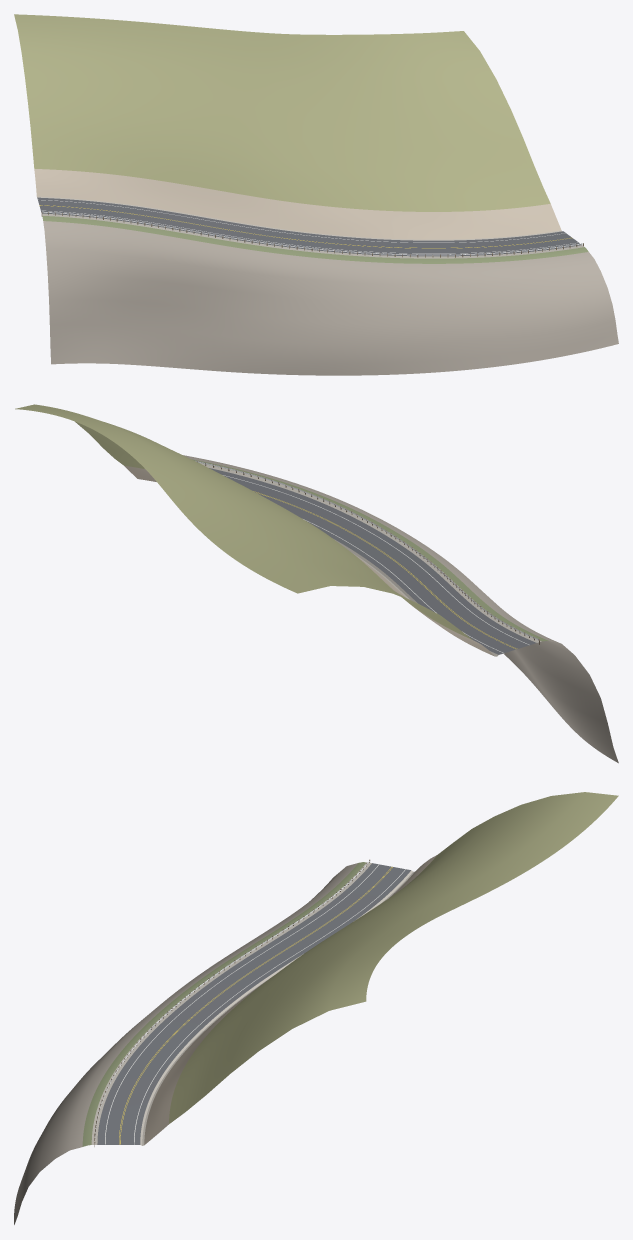
3 views of the same model, one above another, from view 1: azimuth 30°, elevation 25°; view 2: azimuth 150°, elevation 25°; view 3: azimuth 270°, elevation 25° (orthographic). The views are drawn at different scales.
Parts seen in each view (by area): view 1: Hillside, Cliff, RoadCut, Asphalt, Verge, Gravel, Guardrail, EdgeLines; view 2: Hillside, Asphalt, Cliff, Gravel, Verge, RoadCut, Guardrail, EdgeLines, CenterLine; view 3: Hillside, Asphalt, Cliff, Gravel, Verge, RoadCut, EdgeLines, CenterLine.
Boxes of the visible parts, x1=… form: Hillside: x1=14, y1=14, x2=550, y2=211; Cliff: x1=43, y1=221, x2=618, y2=375; RoadCut: x1=34, y1=169, x2=561, y2=239; Asphalt: x1=37, y1=197, x2=581, y2=256; Verge: x1=42, y1=215, x2=588, y2=263; Gravel: x1=37, y1=196, x2=584, y2=258; Guardrail: x1=42, y1=211, x2=582, y2=255; EdgeLines: x1=38, y1=199, x2=577, y2=253; Hillside: x1=15, y1=404, x2=472, y2=639; Asphalt: x1=209, y1=468, x2=536, y2=654; Cliff: x1=183, y1=455, x2=618, y2=763; Gravel: x1=200, y1=463, x2=541, y2=656; Verge: x1=192, y1=459, x2=549, y2=641; RoadCut: x1=124, y1=465, x2=494, y2=656; Guardrail: x1=195, y1=460, x2=538, y2=640; EdgeLines: x1=223, y1=475, x2=529, y2=653; CenterLine: x1=253, y1=491, x2=517, y2=648; Hillside: x1=169, y1=792, x2=618, y2=1123; Asphalt: x1=97, y1=863, x2=410, y2=1144; Cliff: x1=14, y1=863, x2=357, y2=1224; Gravel: x1=91, y1=862, x2=414, y2=1145; Verge: x1=82, y1=862, x2=366, y2=1146; RoadCut: x1=144, y1=855, x2=436, y2=1144; EdgeLines: x1=105, y1=864, x2=405, y2=1144; CenterLine: x1=119, y1=867, x2=392, y2=1144.
Bounding box in the file's own units: 142 × 65.55 × 147.
